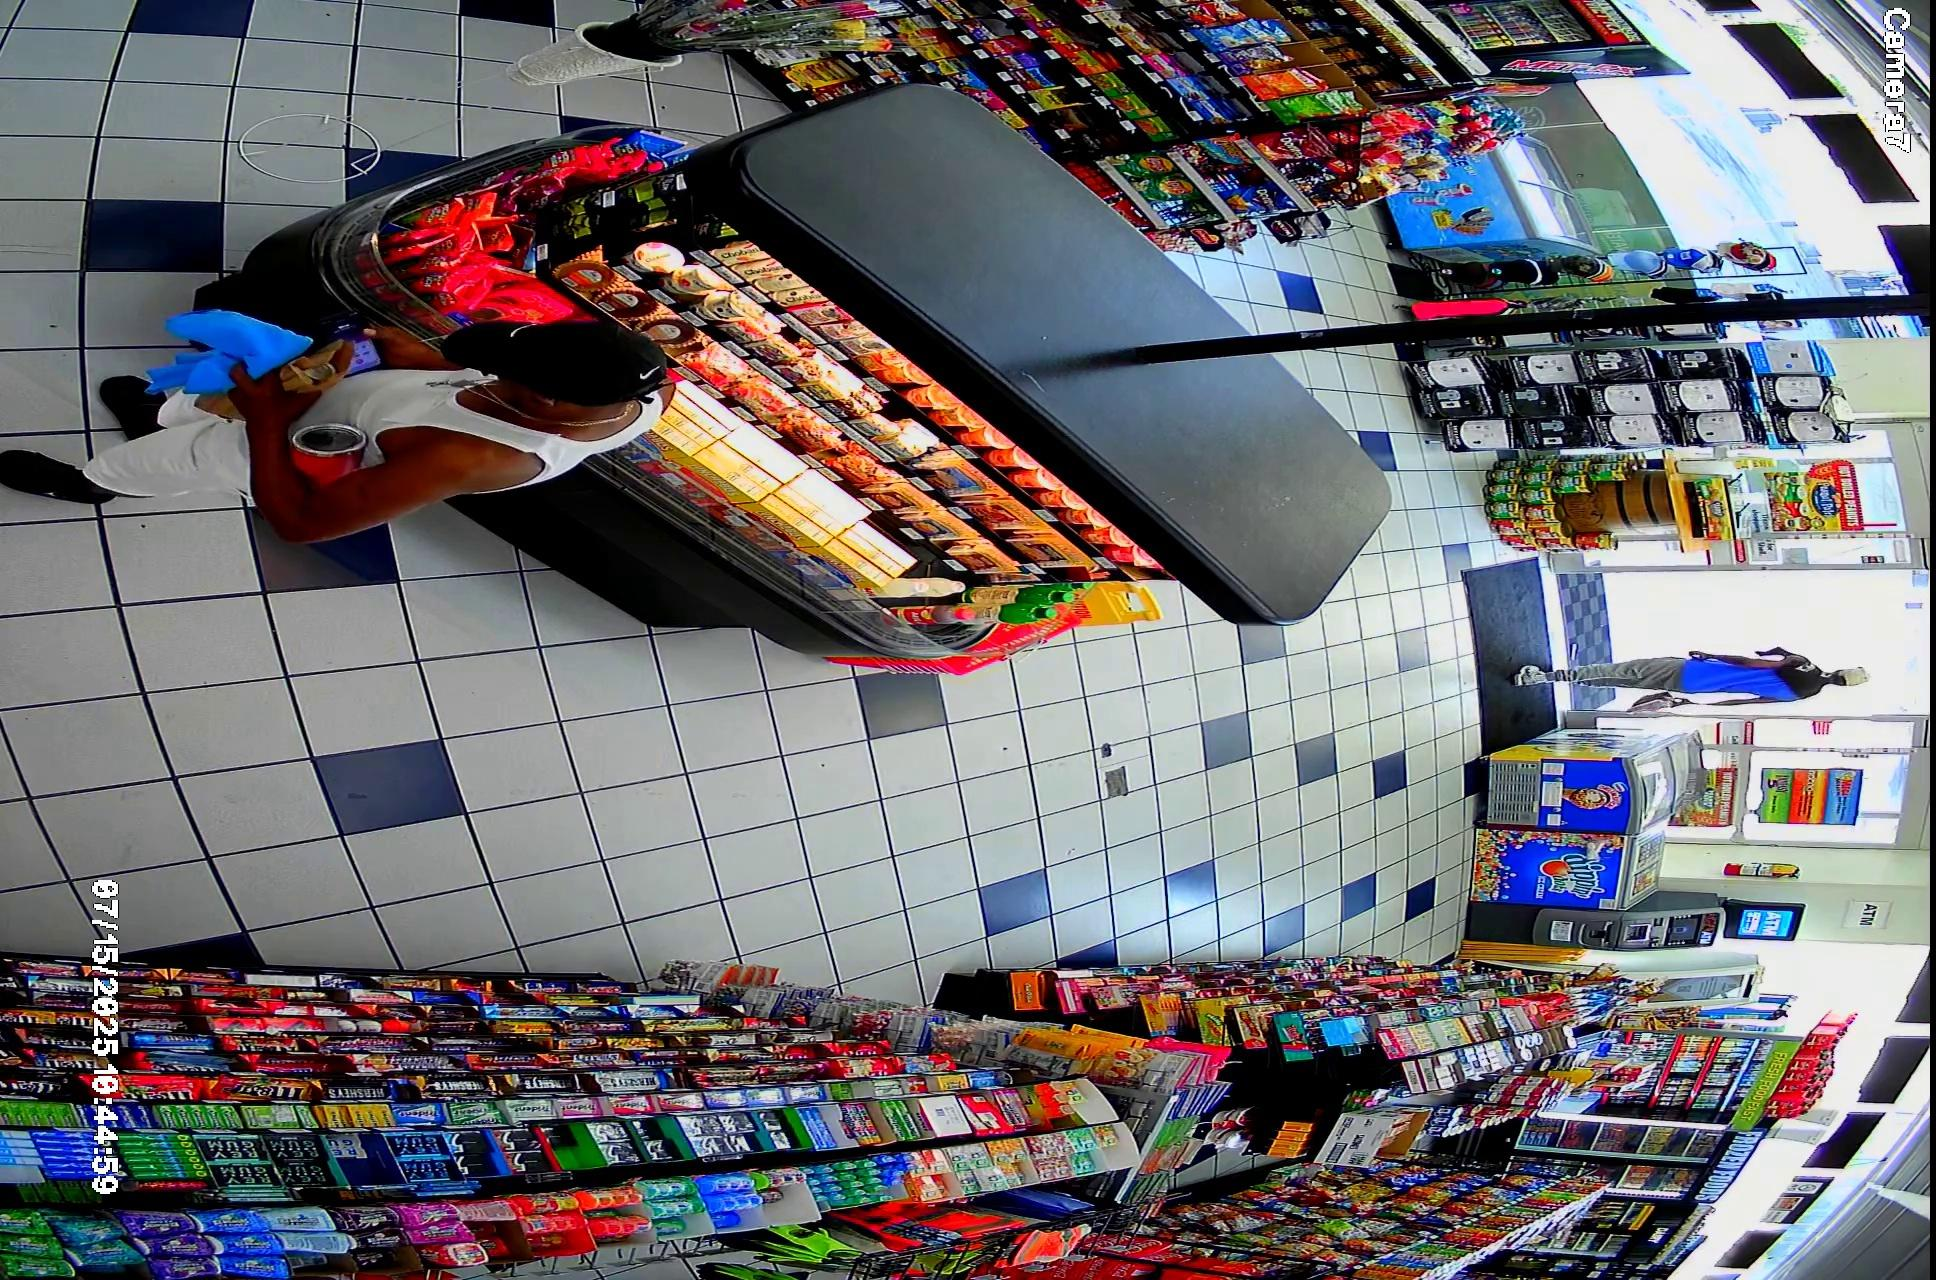phone: (326, 321, 389, 386)
